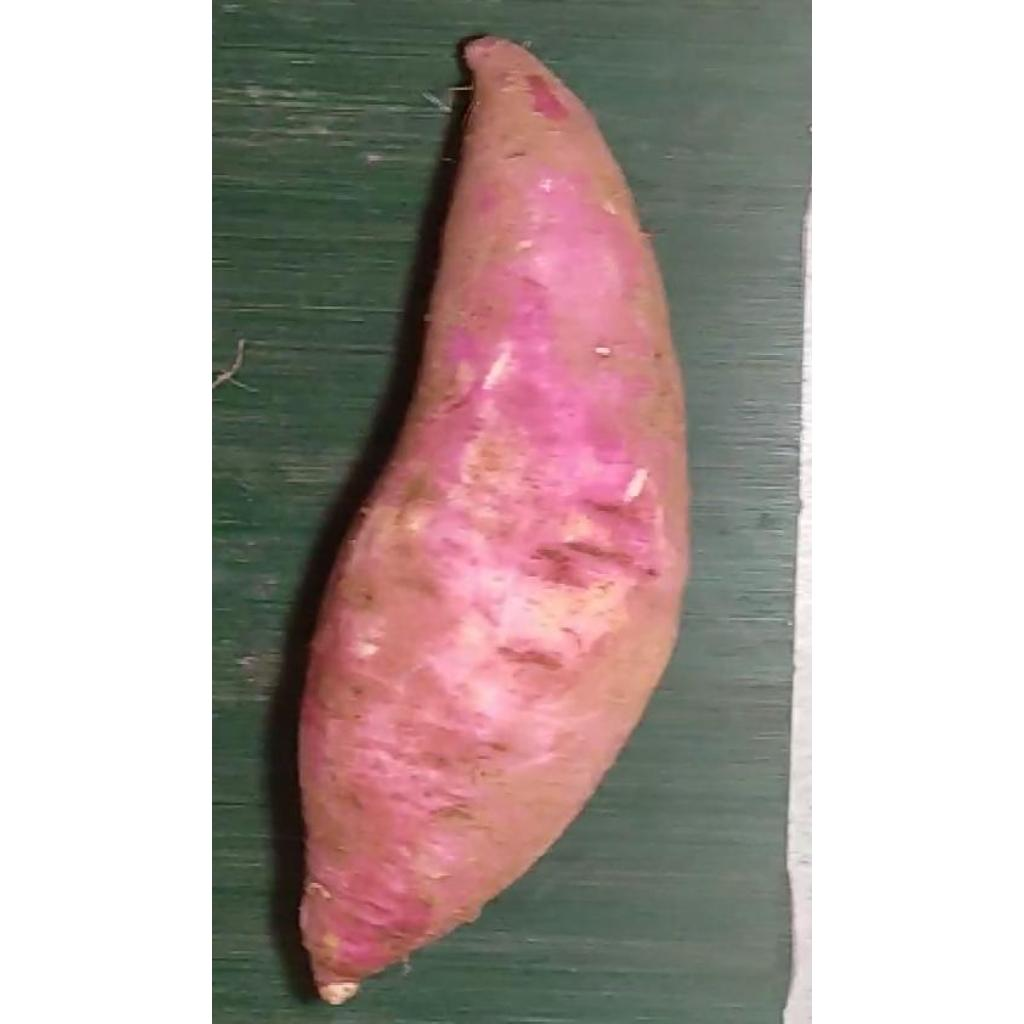Sweet Potato: (297, 36, 690, 1008)
